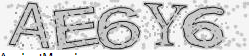6: (97, 7, 143, 52), (183, 6, 227, 49)
A: (8, 1, 52, 50)
E: (52, 5, 100, 51)
Y: (141, 1, 186, 49)
